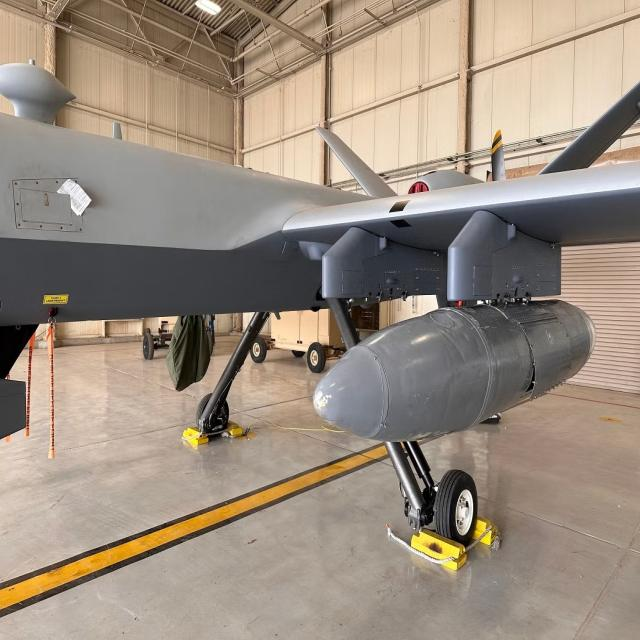MQ9: (0, 55, 640, 571)
